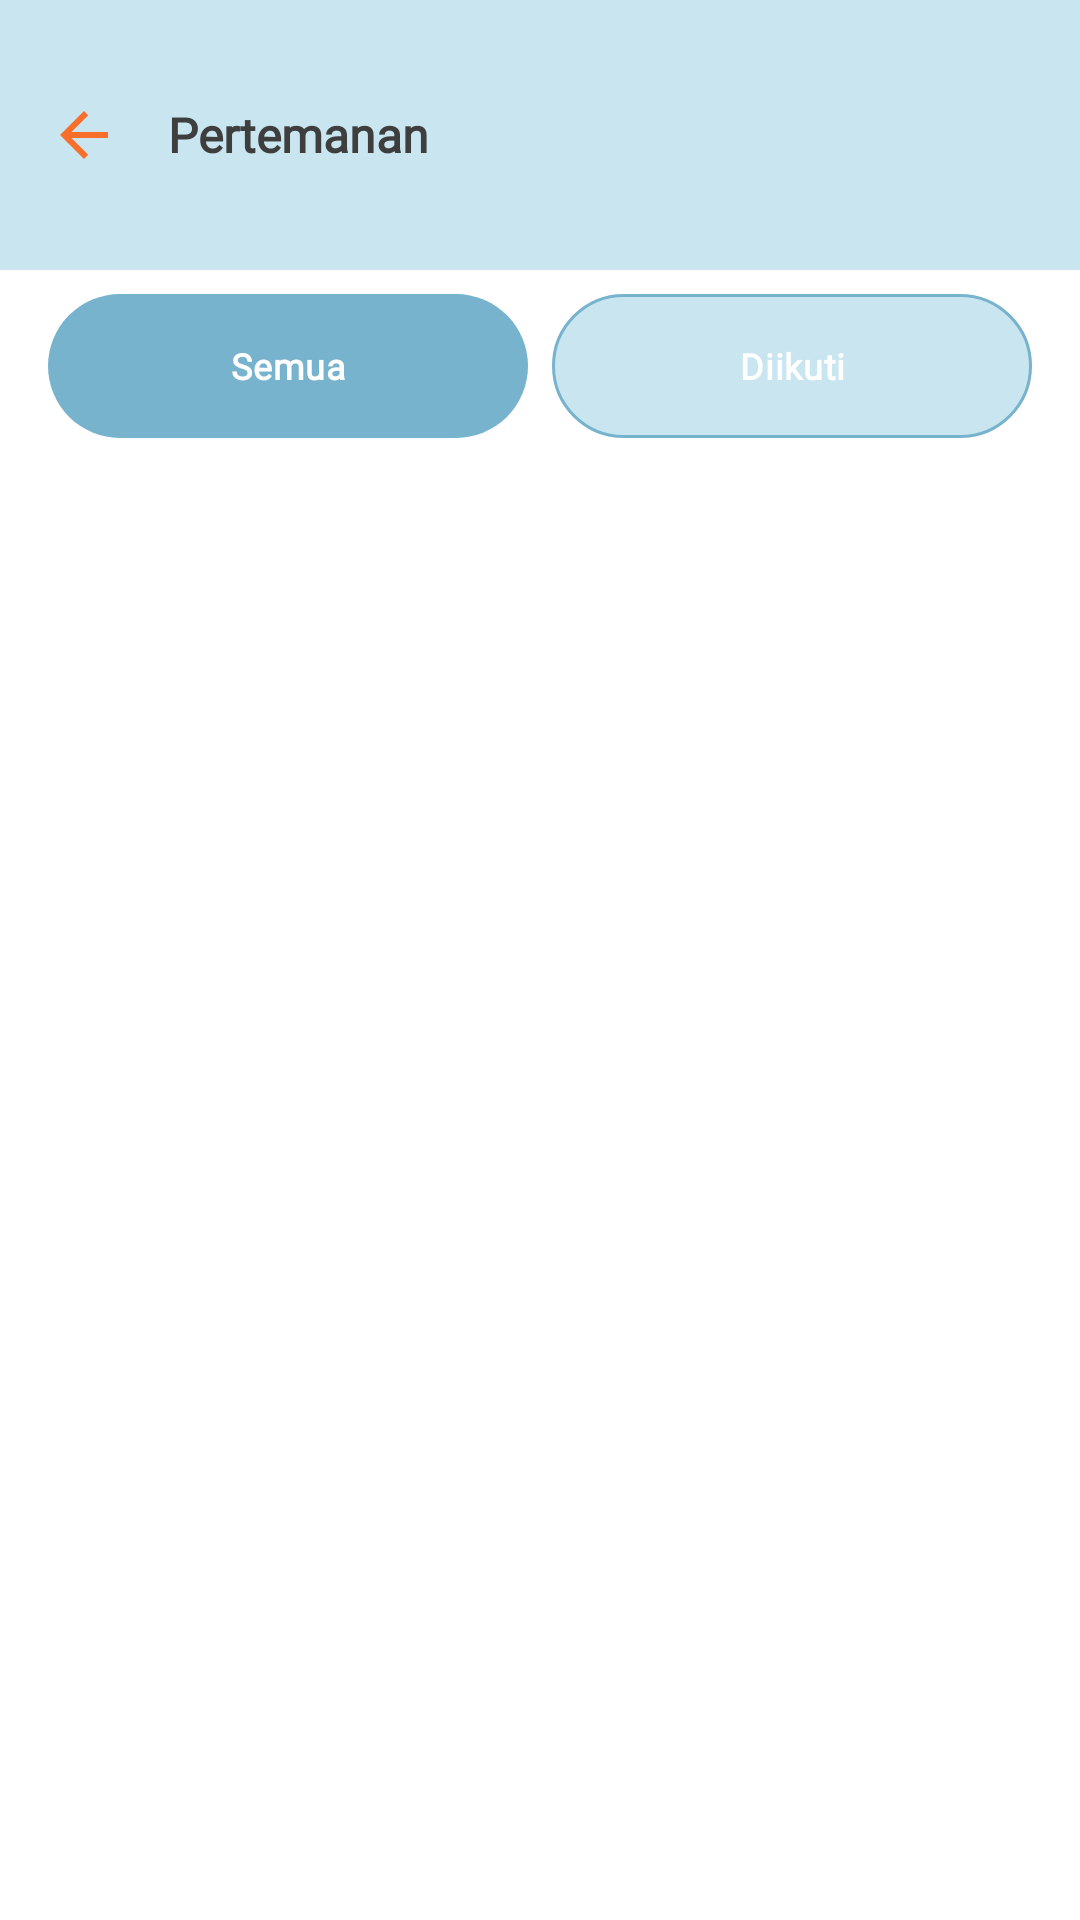

Icon click points for this 1080×1920 phone screenshot, format (x=x, y=y):
Back: (x=84, y=135)
